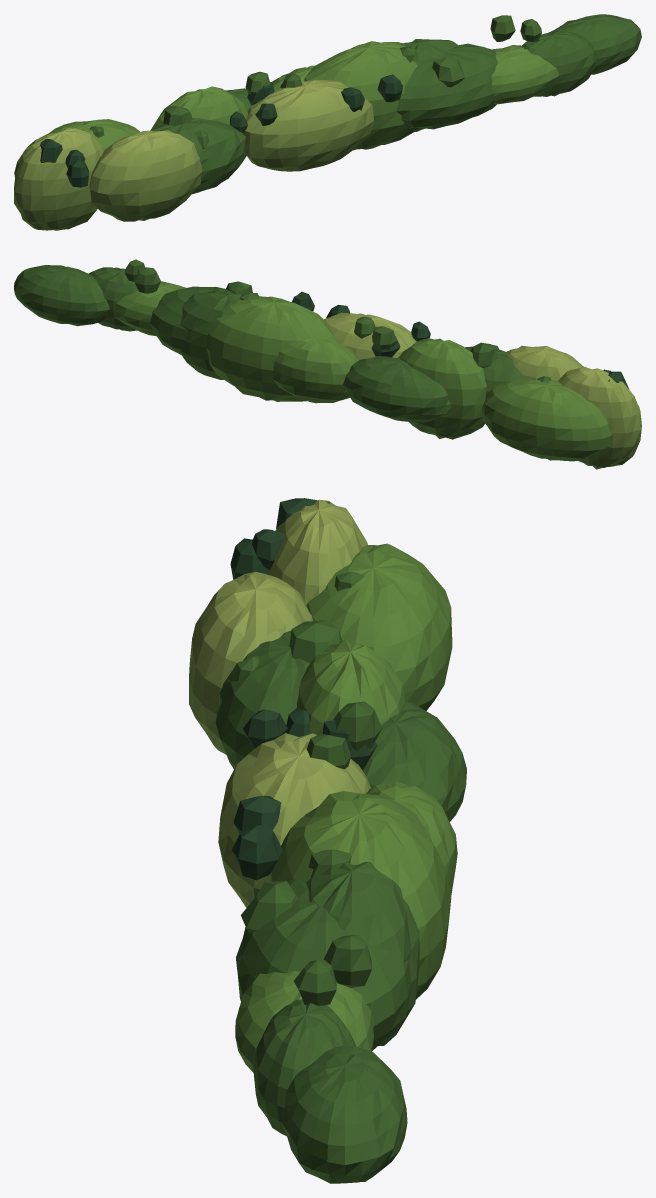
Rendered from hills.glb.
The picture shows the model from 3 angles, top to bottom: view 1: azimuth 30°, elevation 25°; view 2: azimuth 150°, elevation 25°; view 3: azimuth 270°, elevation 25°; orthographic projection. The views are drawn at different scales.
Parts seen in each view (by area): view 1: hills; view 2: hills; view 3: hills.
Boxes of the visible parts, <box> form: hills: <box>14,14,641,230</box>; hills: <box>14,259,641,469</box>; hills: <box>189,498,466,1183</box>.
Bounding box in the file's own units: 107 × 15.93 × 20.69.
